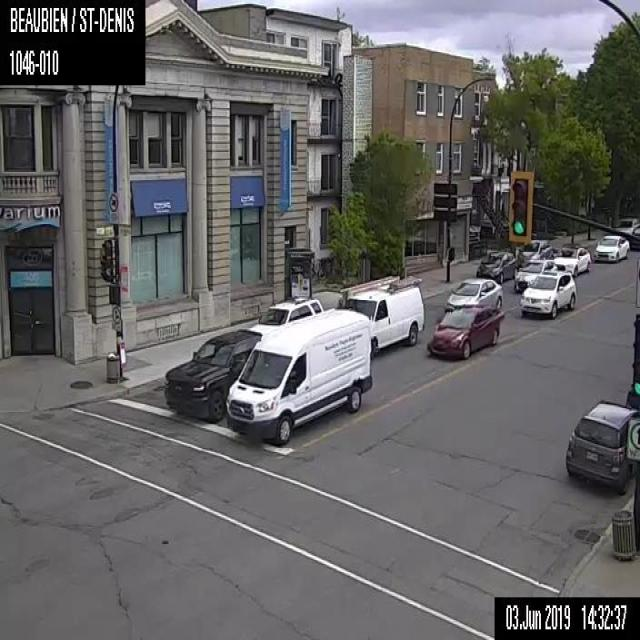vehicle: (226, 308, 370, 444), (164, 328, 262, 422), (335, 274, 423, 356), (565, 400, 639, 494), (426, 304, 499, 358), (247, 296, 324, 336), (518, 270, 576, 318), (443, 276, 502, 312), (514, 258, 557, 292), (476, 250, 516, 283), (552, 243, 590, 275), (592, 234, 629, 262), (516, 239, 552, 266), (614, 217, 636, 236)
